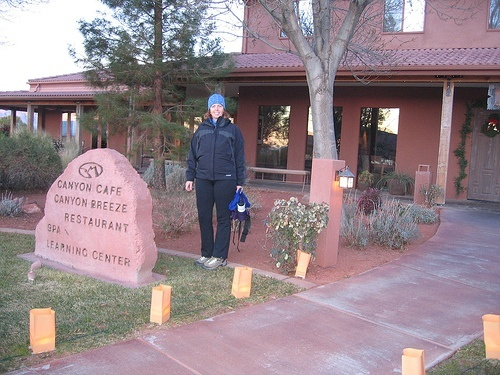head: (207, 93, 226, 118)
person: (183, 92, 246, 269)
